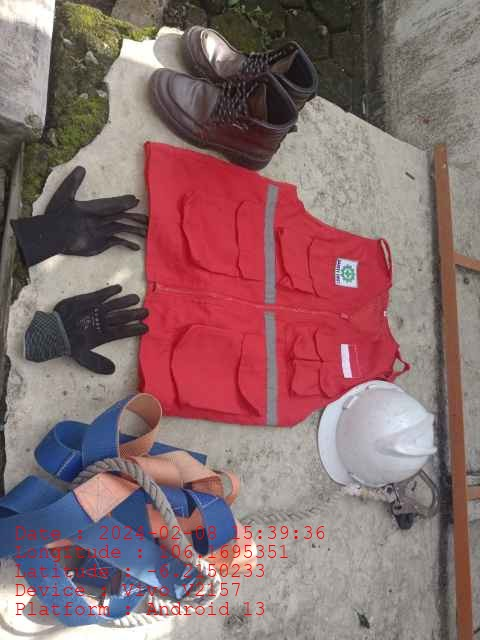HELM: (320, 380, 434, 489)
SARUNG_TANGAN: (12, 167, 146, 265), (23, 281, 148, 375)
SEPATU: (148, 22, 318, 173)
